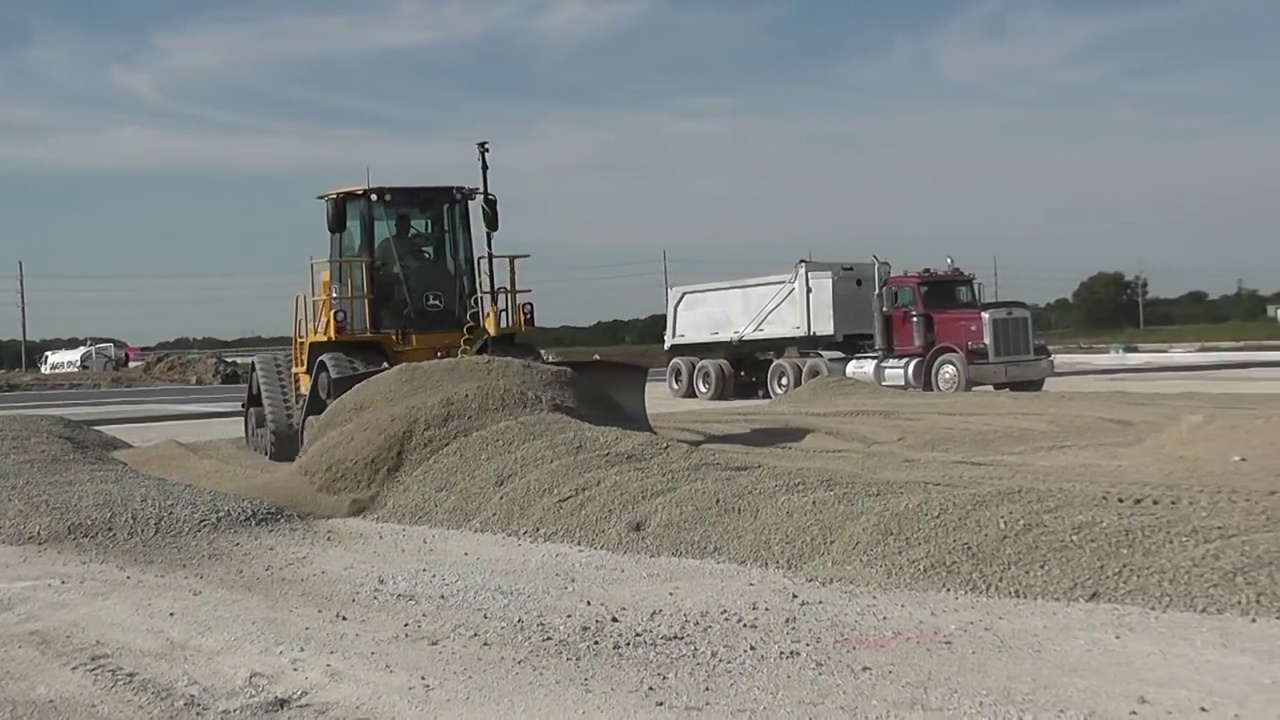bulldozer: (249, 185, 660, 468)
truck: (662, 261, 1059, 407)
